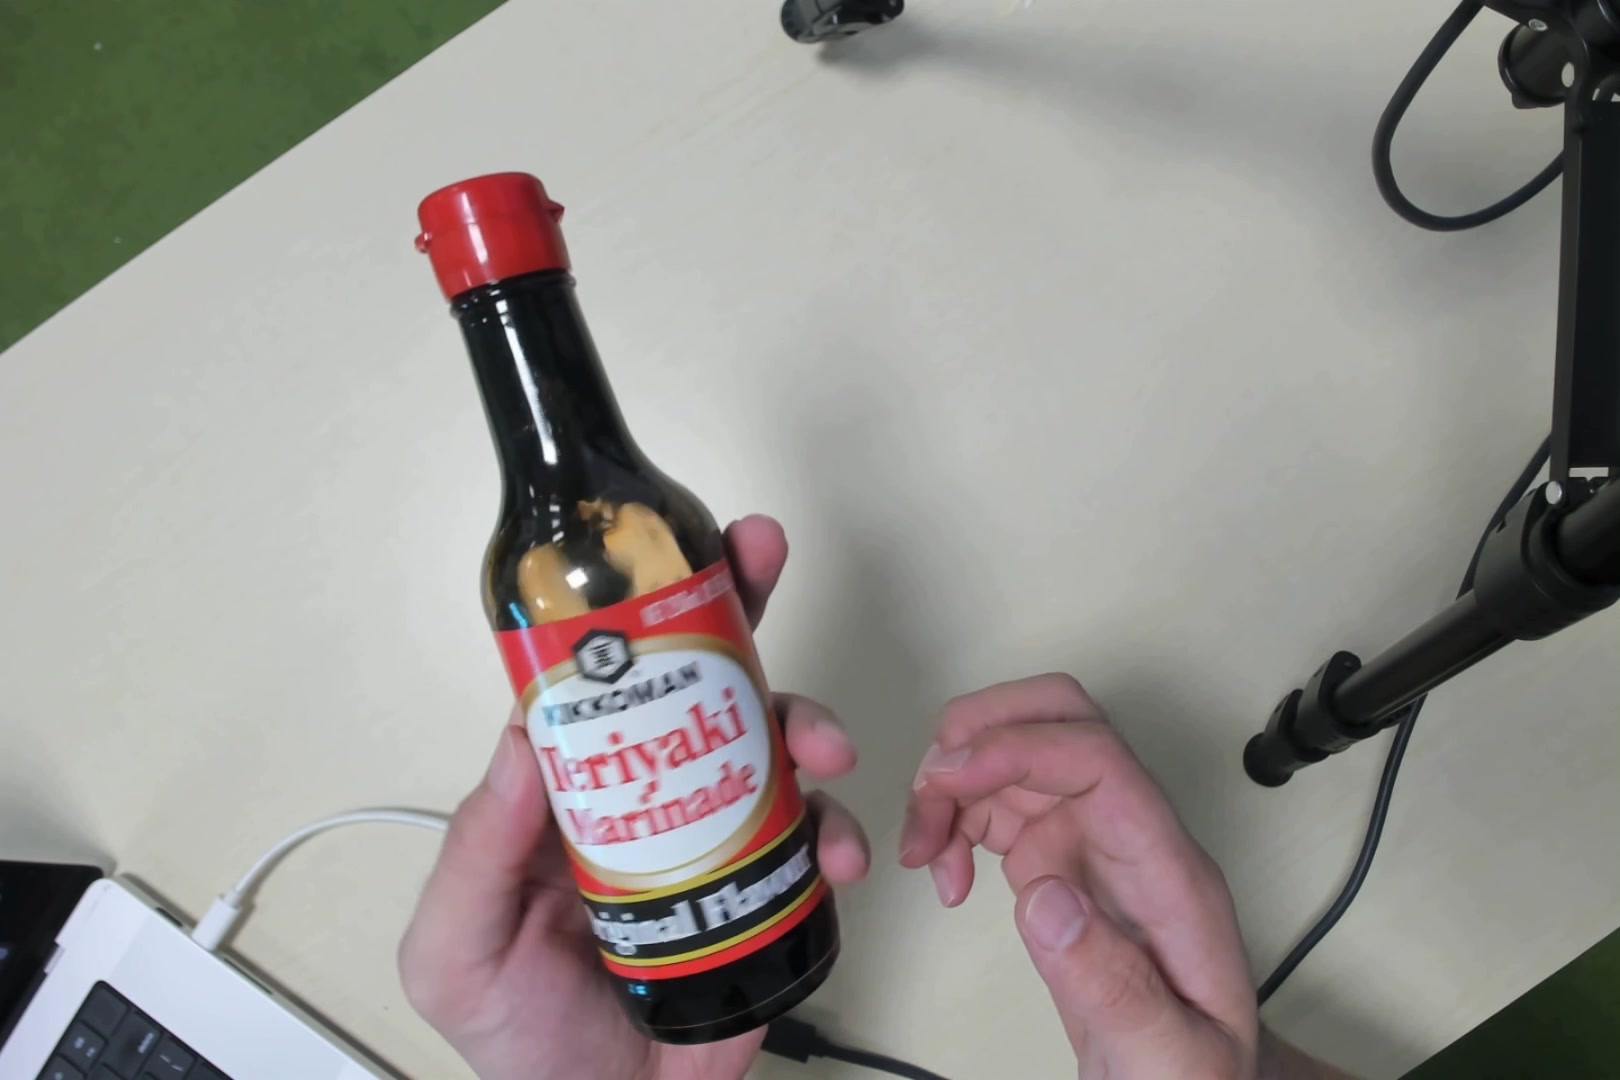OtherSauceDressingSoupbasePaste_200-299g_NonHalal_NonHealthy: (444, 188, 827, 1003)
